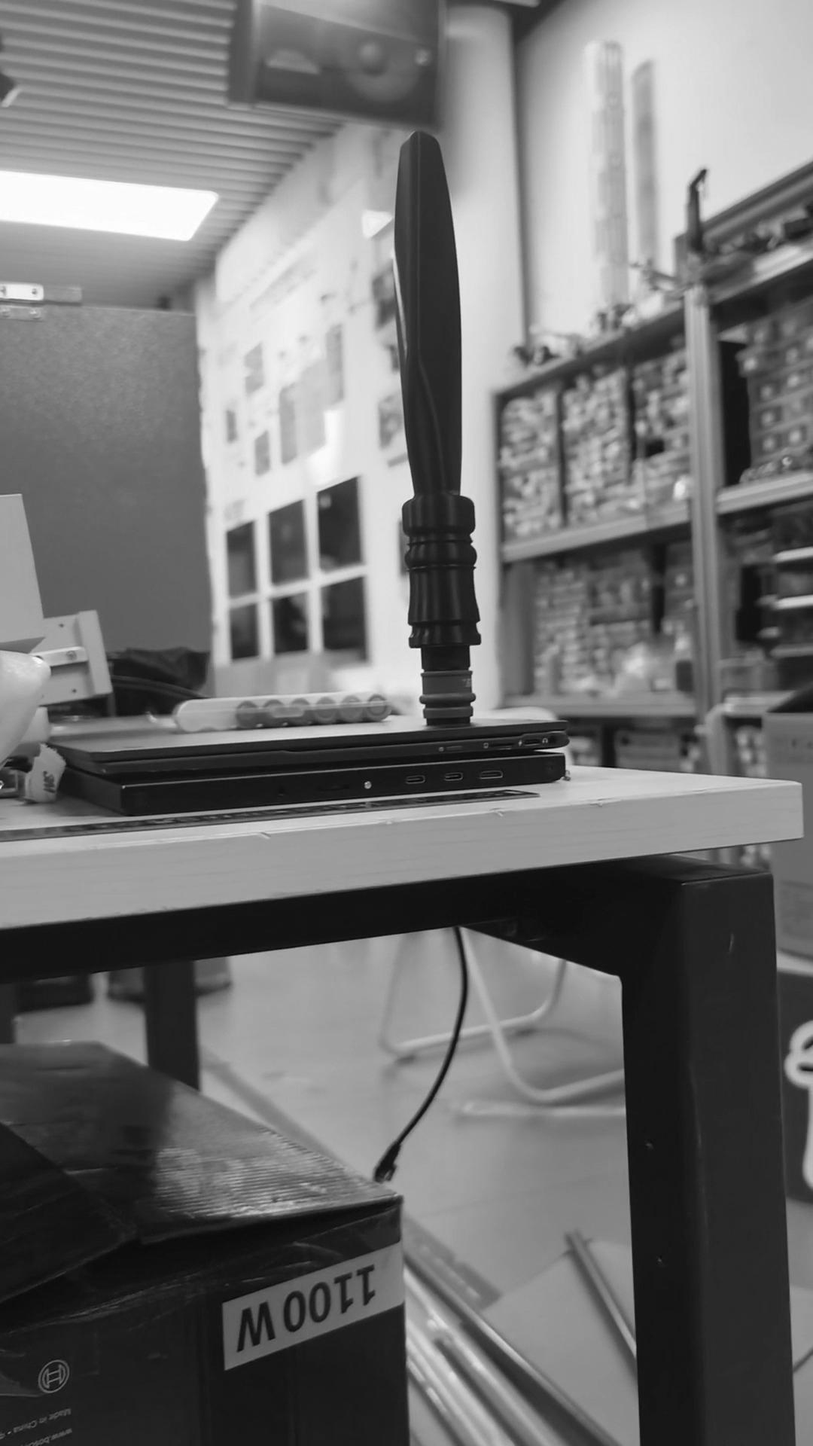base: (420, 669, 476, 725)
